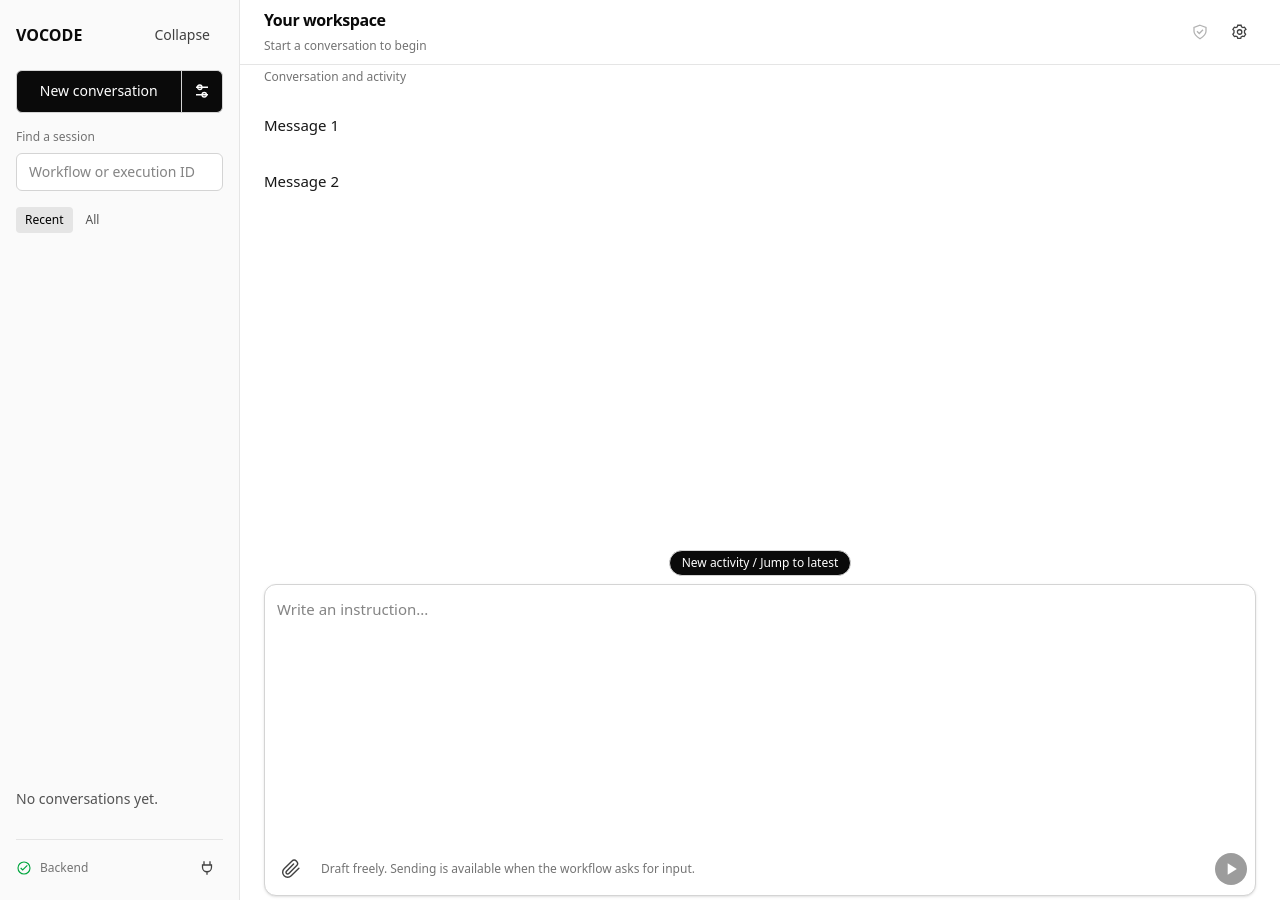
Scenario: scrolling away preserves position and only new activity shows the jump button
(page scrolled)
Step 1. Click the button "New activity / Jump to latest" → x=760, y=563, box top-left (669, 550), bottom-right (851, 576)
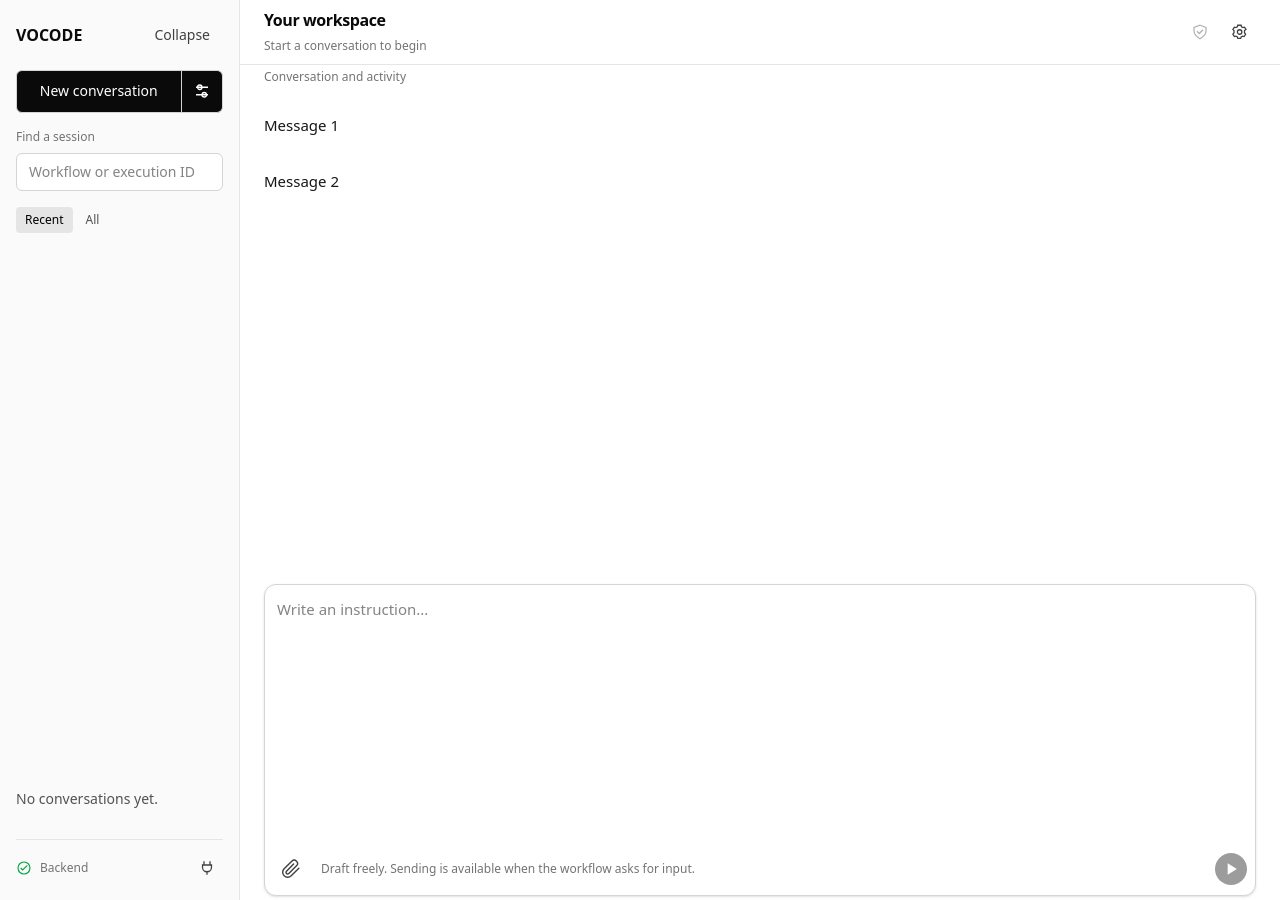
Check: the button "Jump to latest" is gone
